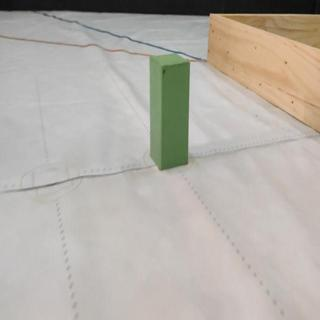greenbox: (147, 51, 191, 171)
